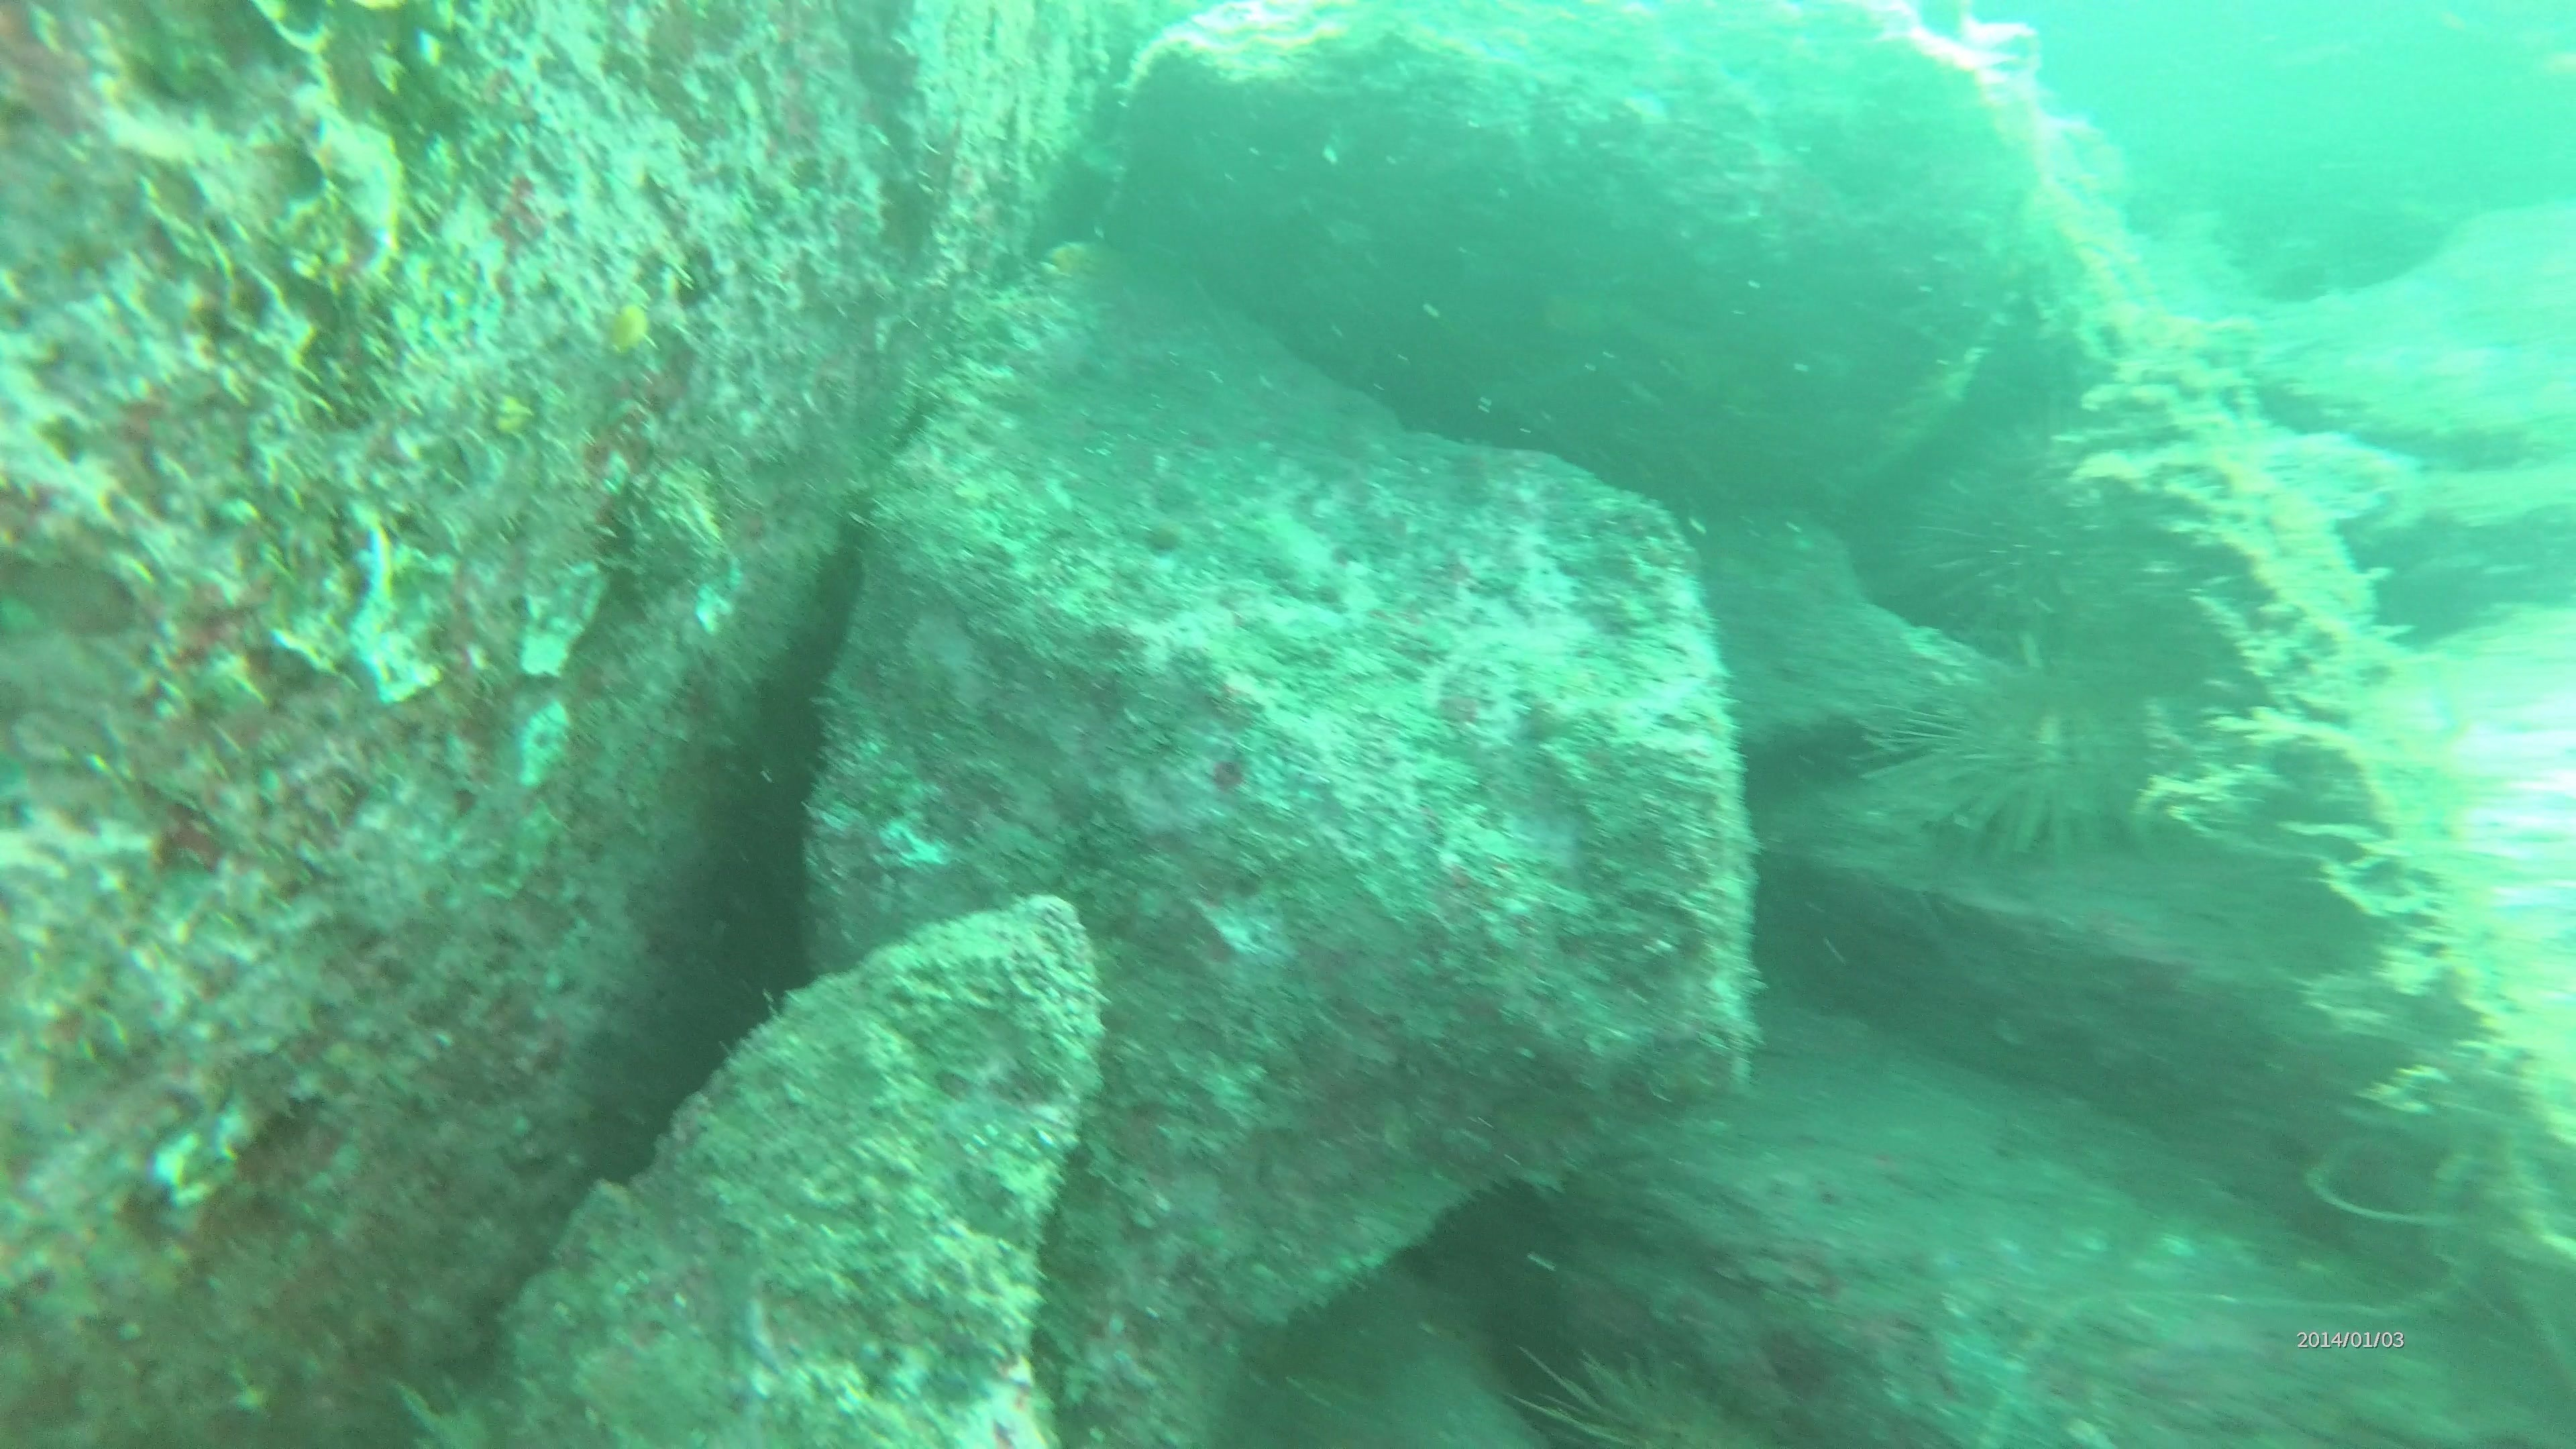echinus: (1879, 630, 2180, 865), (1902, 428, 2116, 648), (1499, 1341, 1778, 1442)
